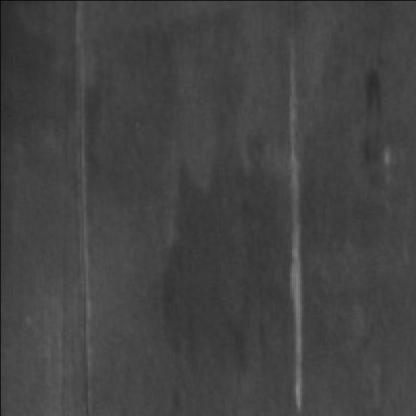scratches: (64, 0, 96, 366), (278, 58, 306, 406)
